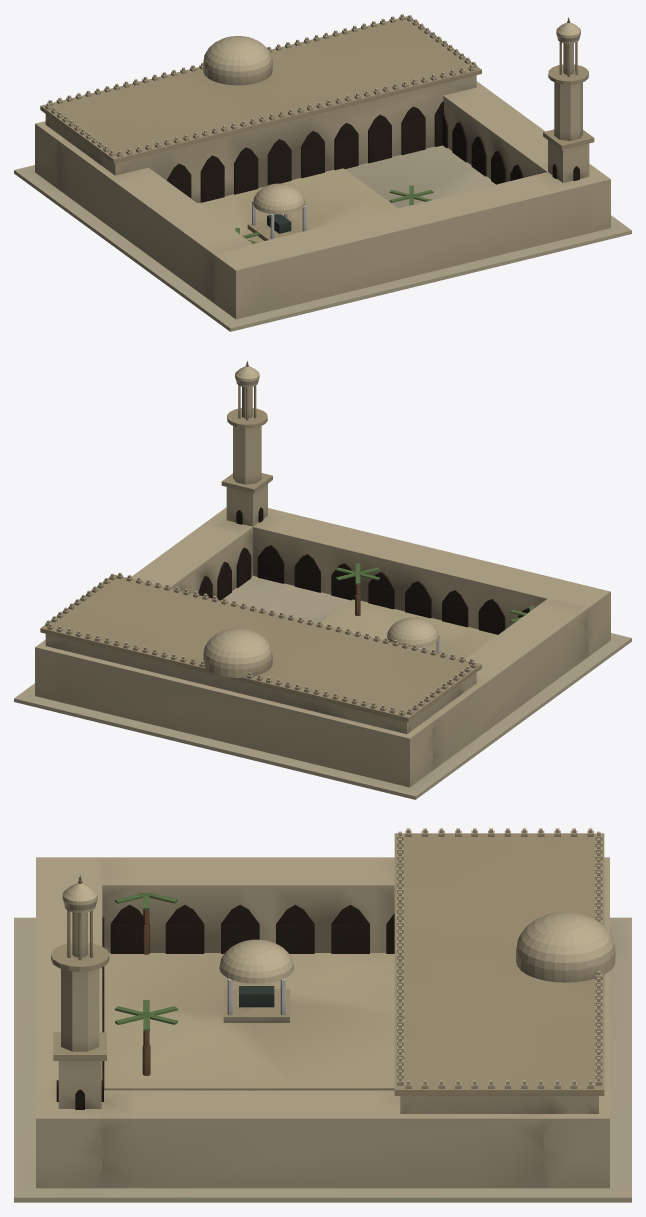
File: attarine.glb
3 renders of one model, top to bottom at view 1: azimuth 30°, elevation 25°; view 2: azimuth 150°, elevation 25°; view 3: azimuth 270°, elevation 25°, orthographic. The views are drawn at different scales.
Parts seen in each view (by area): view 1: p0_court, p1_hall, p2_minaret; view 2: p0_court, p1_hall, p2_minaret; view 3: p0_court, p1_hall, p2_minaret.
Boxes of the visible parts, bbox=[...] form: p0_court: bbox=[14, 81, 631, 331]; p1_hall: bbox=[40, 14, 481, 202]; p2_minaret: bbox=[235, 17, 594, 243]; p0_court: bbox=[14, 507, 631, 799]; p1_hall: bbox=[40, 572, 481, 733]; p2_minaret: bbox=[221, 361, 534, 653]; p0_court: bbox=[14, 857, 631, 1202]; p1_hall: bbox=[394, 828, 615, 1113]; p2_minaret: bbox=[51, 875, 294, 1109].
Bounding box in the file's own units: 60 × 30.03 × 56.
